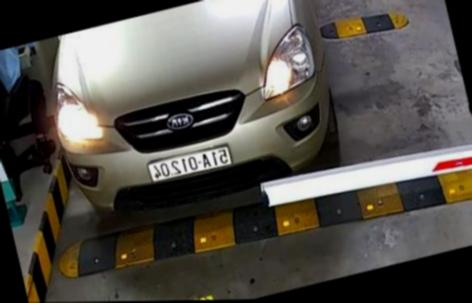License_Plate: (145, 140, 236, 190)
